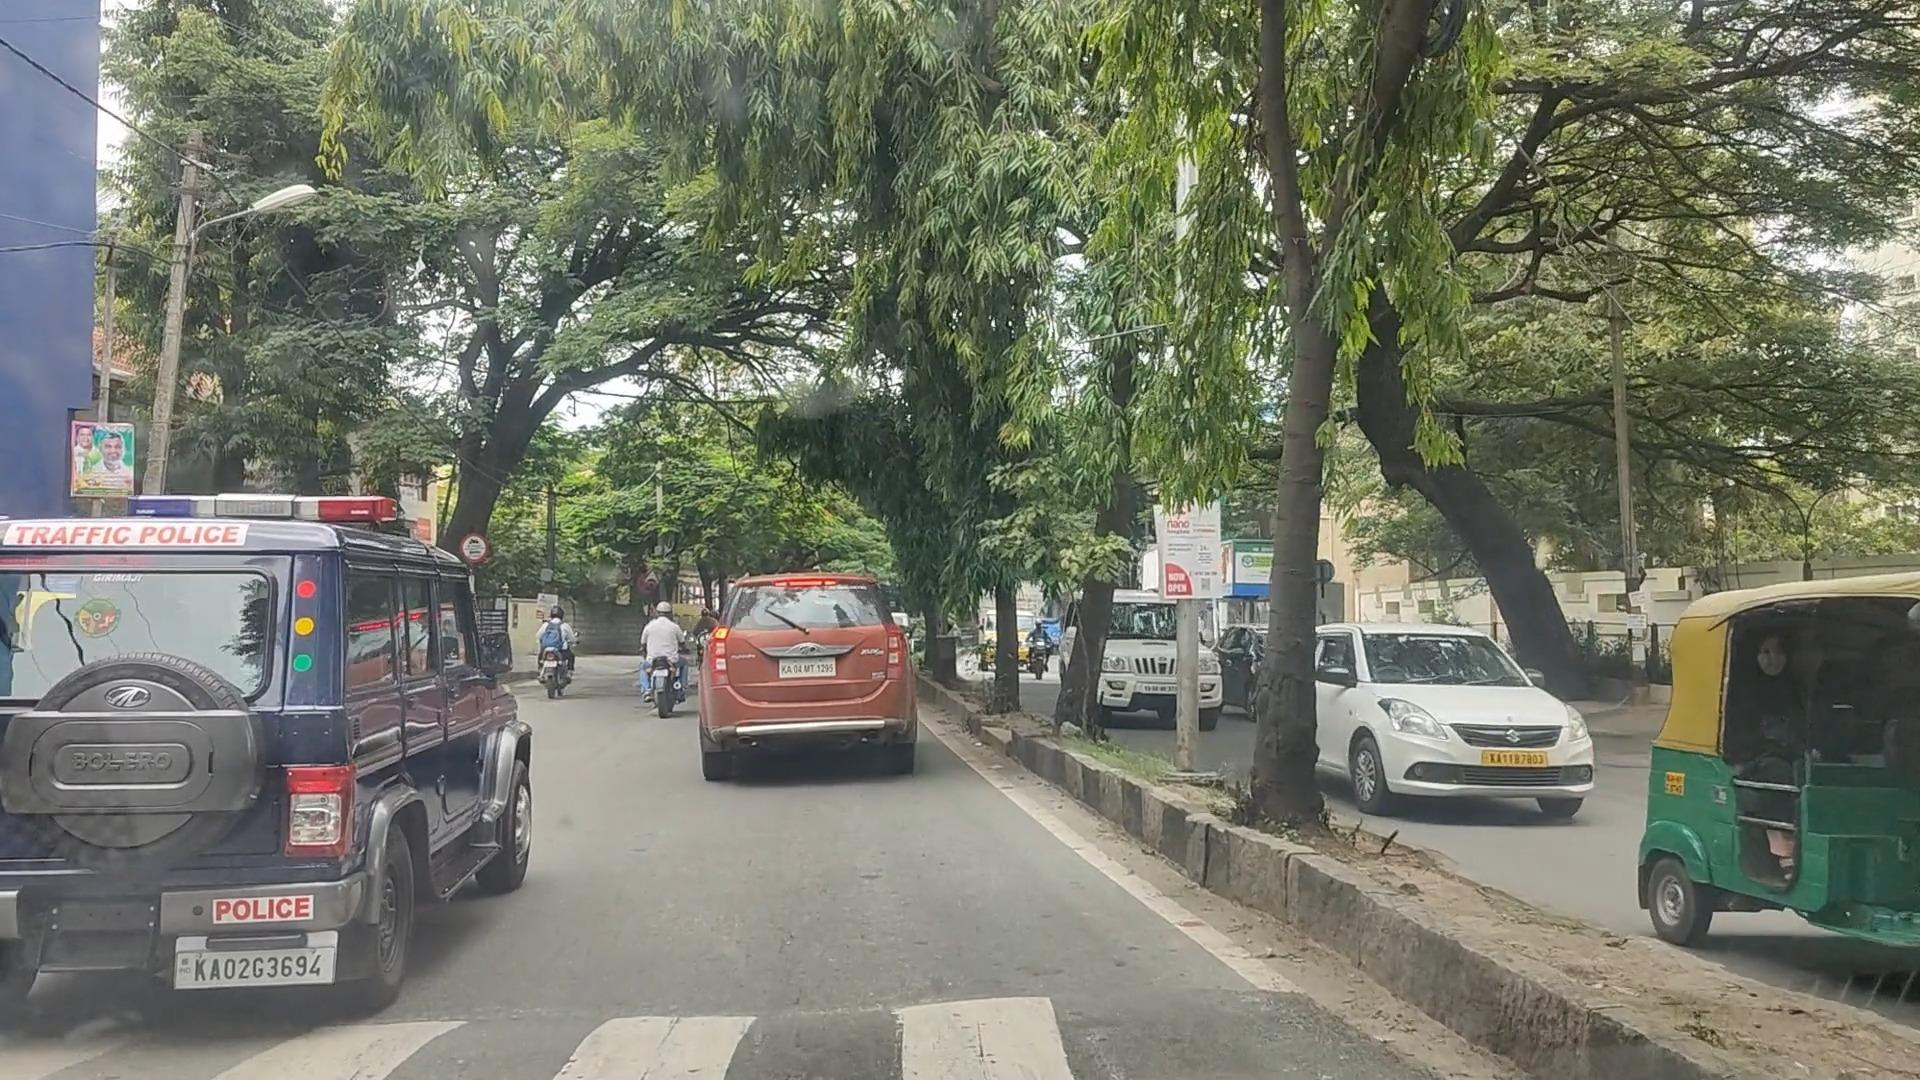LMV: (0, 502, 550, 982), (705, 580, 913, 782)
SpeedBump: (84, 1002, 1088, 1080)
